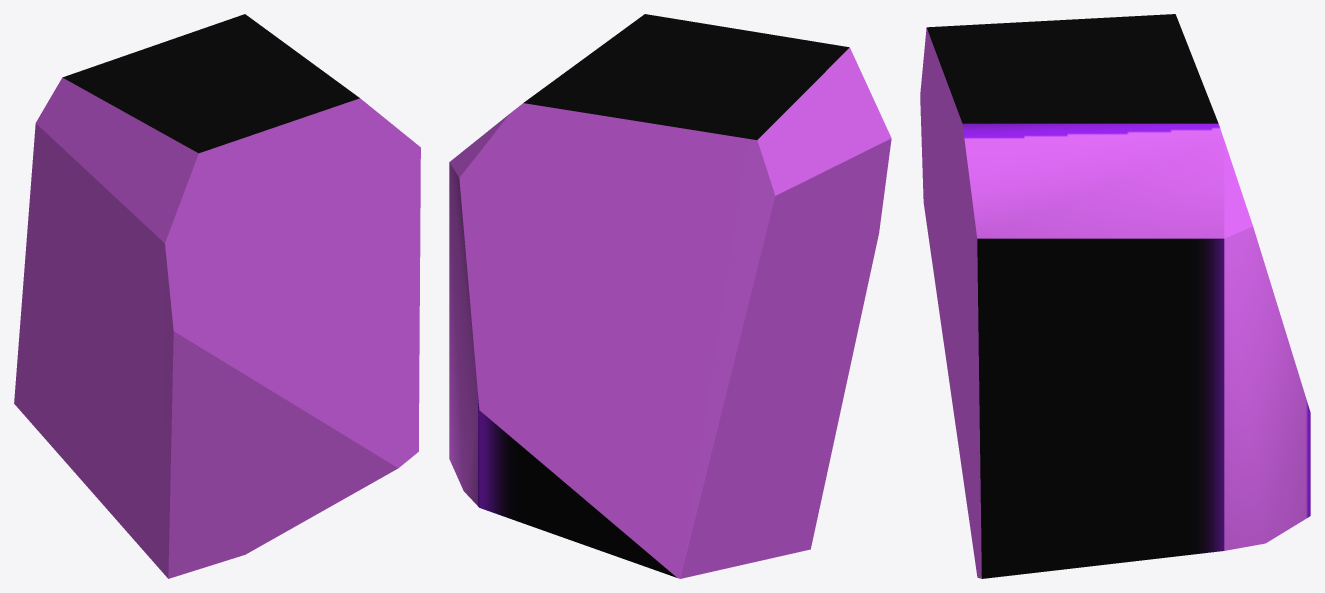
The model's file is blockParticle_18.gltf.
The picture shows the model from 3 angles, left to right: view 1: azimuth 30°, elevation 25°; view 2: azimuth 150°, elevation 25°; view 3: azimuth 270°, elevation 25°; orthographic projection. The views are drawn at different scales.
Parts seen in each view (by area): view 1: 立方体_cell.020; view 2: 立方体_cell.020; view 3: 立方体_cell.020.
Boxes of the visible parts, x1,y1,x2,y2 form: 立方体_cell.020: (14,14,420,578); 立方体_cell.020: (449,14,891,578); 立方体_cell.020: (920,14,1310,578).
Size of the model in its own units: 0.9174 by 1.36 by 0.9575.
Materials: 2 (2 with a texture image).
